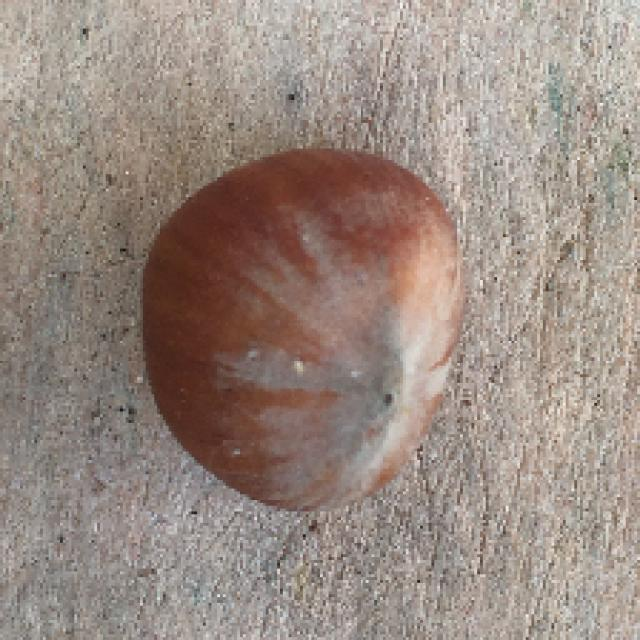qualityHazelnut: (129, 133, 470, 523)
